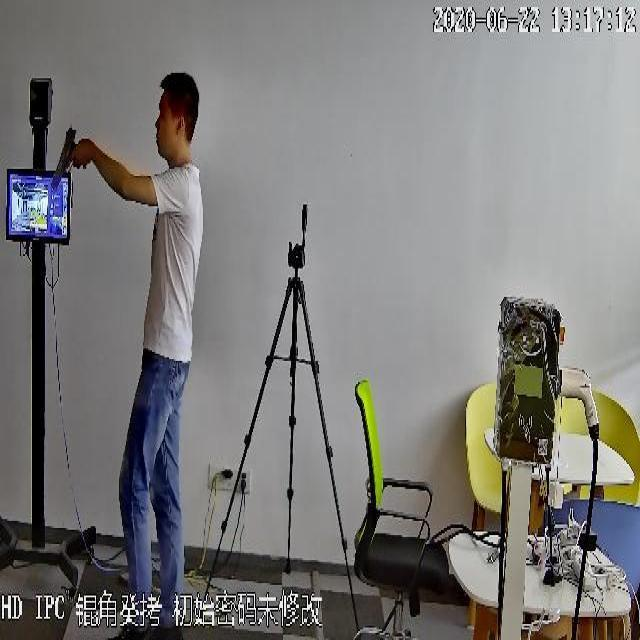pistol: (54, 128, 84, 188)
